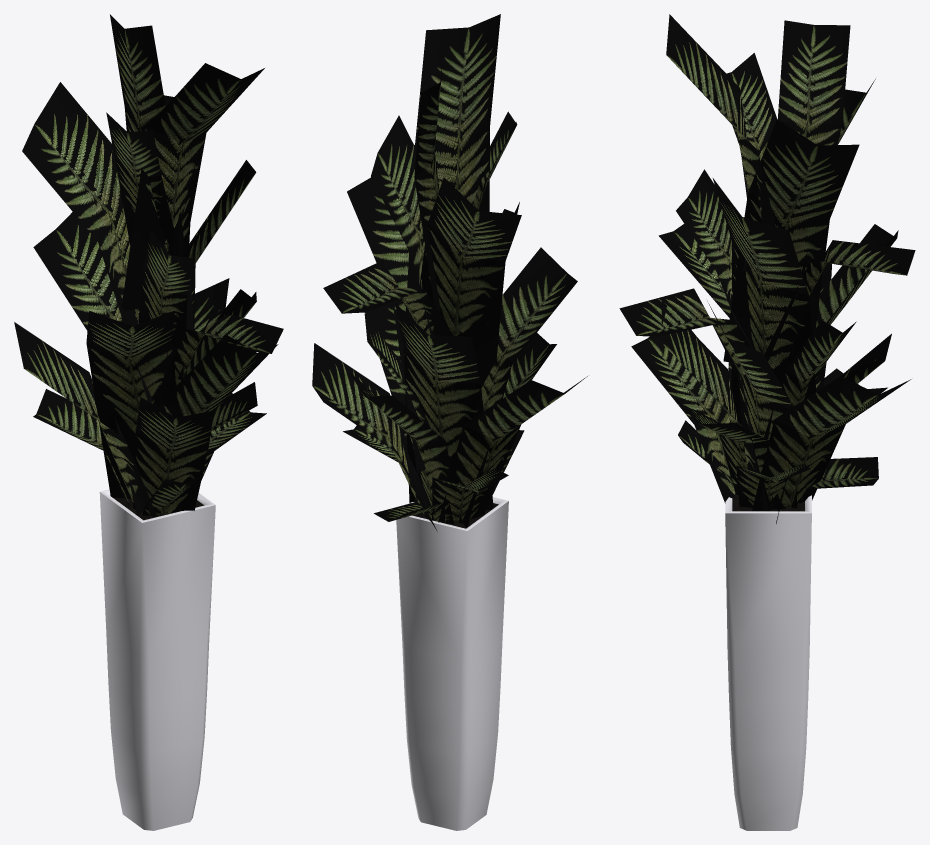
The model's file is p6_karma_pot_tall_fern_lod1.glb.
3 views of the same model, side by side, from view 1: azimuth 30°, elevation 25°; view 2: azimuth 150°, elevation 25°; view 3: azimuth 270°, elevation 25° (orthographic). The views are drawn at different scales.
Visible parts, largest first — view 1: surf0, surf1; view 2: surf0, surf1; view 3: surf0, surf1.
Part boxes in pixels (x1=…): surf0: x1=14, y1=14, x2=283, y2=517; surf1: x1=99, y1=489, x2=215, y2=830; surf0: x1=312, y1=14, x2=587, y2=531; surf1: x1=396, y1=497, x2=508, y2=830; surf0: x1=619, y1=14, x2=915, y2=523; surf1: x1=725, y1=495, x2=811, y2=830.
Size of the model in its own units: 36.25 by 118 by 39.35.
